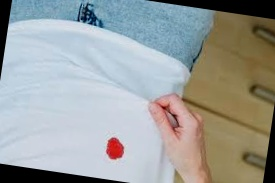blood: (102, 136, 128, 164)
